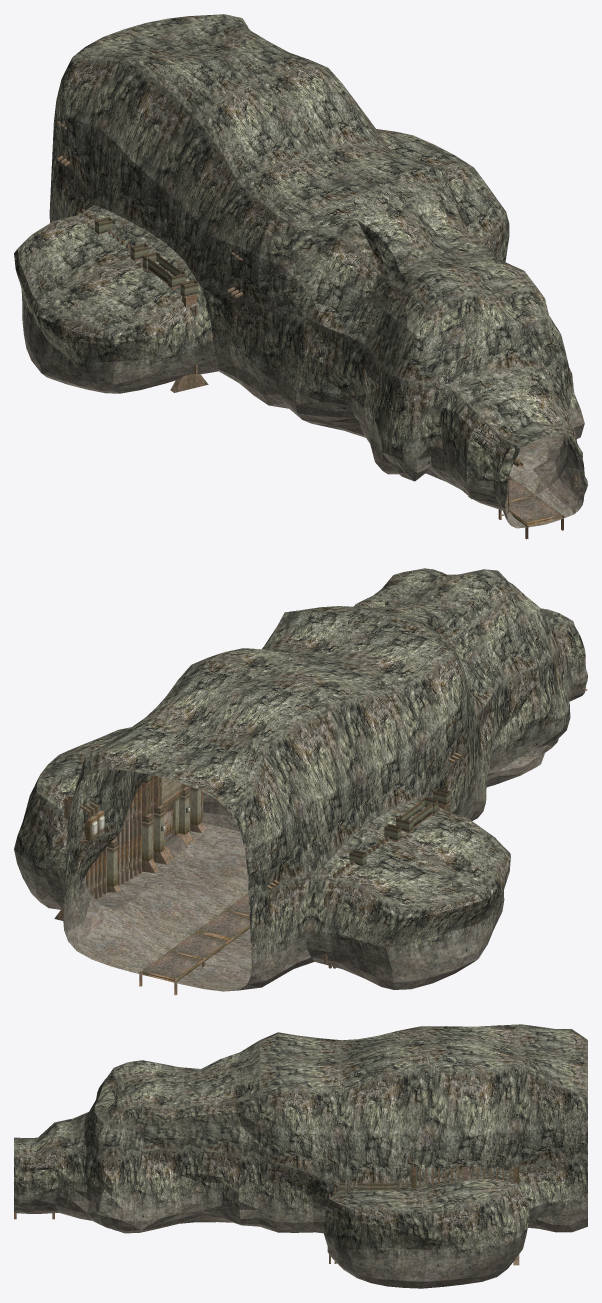
File: poi_all_bunker_mad_bio_s01_r37_cavecages2_mesh_r37.fbx
3 renders of one model, top to bottom at view 1: azimuth 30°, elevation 25°; view 2: azimuth 150°, elevation 25°; view 3: azimuth 270°, elevation 25°, orthographic. The views are drawn at different scales.
Visible parts, largest first — view 1: mesh_node; view 2: mesh_node; view 3: mesh_node.
Boxes of the visible parts, x1=… form: mesh_node: x1=14, y1=14, x2=587, y2=539; mesh_node: x1=14, y1=568, x2=587, y2=995; mesh_node: x1=14, y1=1024, x2=587, y2=1288.
Size of the model in its own units: 36.07 by 19.43 by 56.
